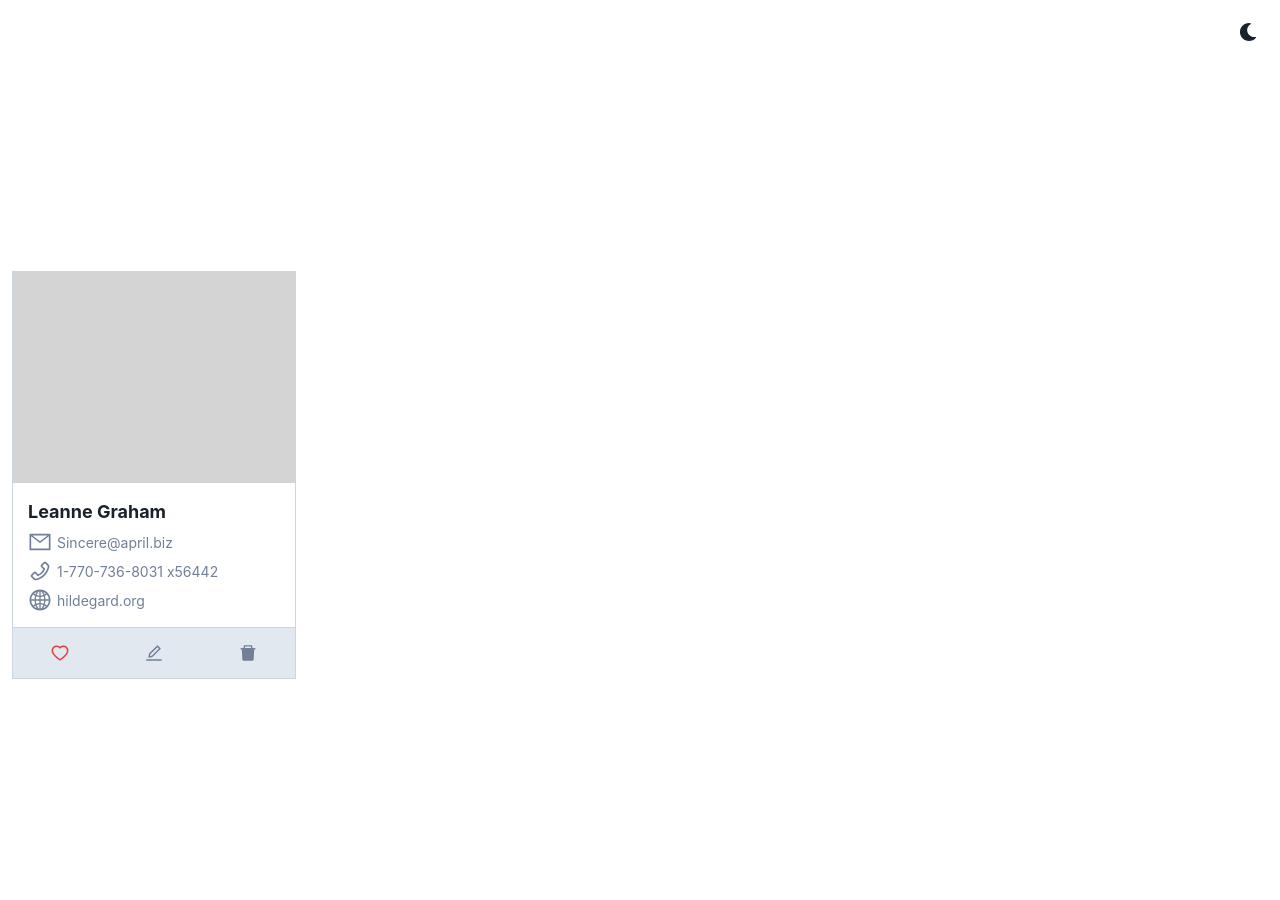
Scenario: <App /> › edit modal validation works
Click the button with test id "button-user-edit" at (154, 653), box [134,633,174,673]
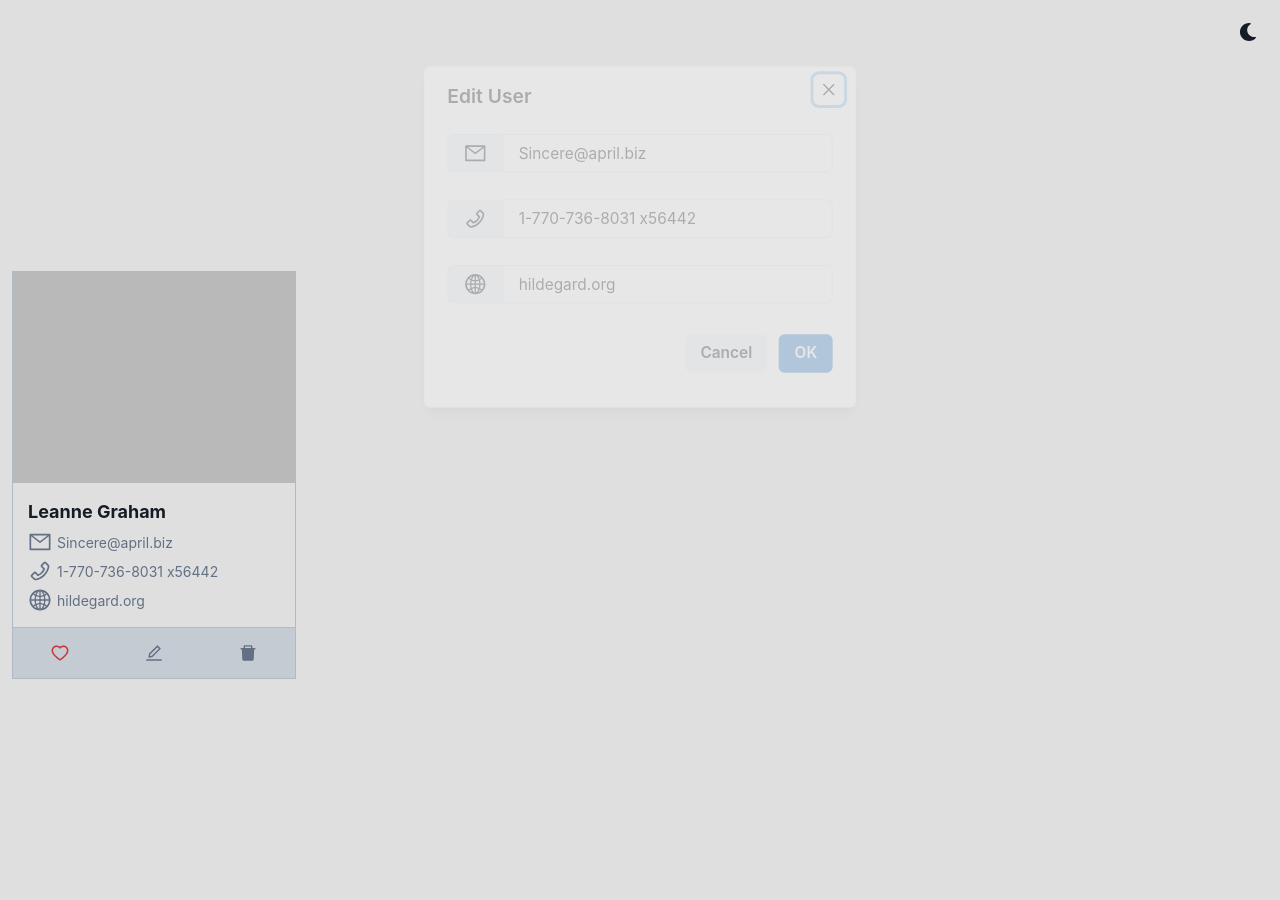
Replace the text in the field with test id "email-input" with "invalidate-email" at (668, 153), box [502,134,833,172]
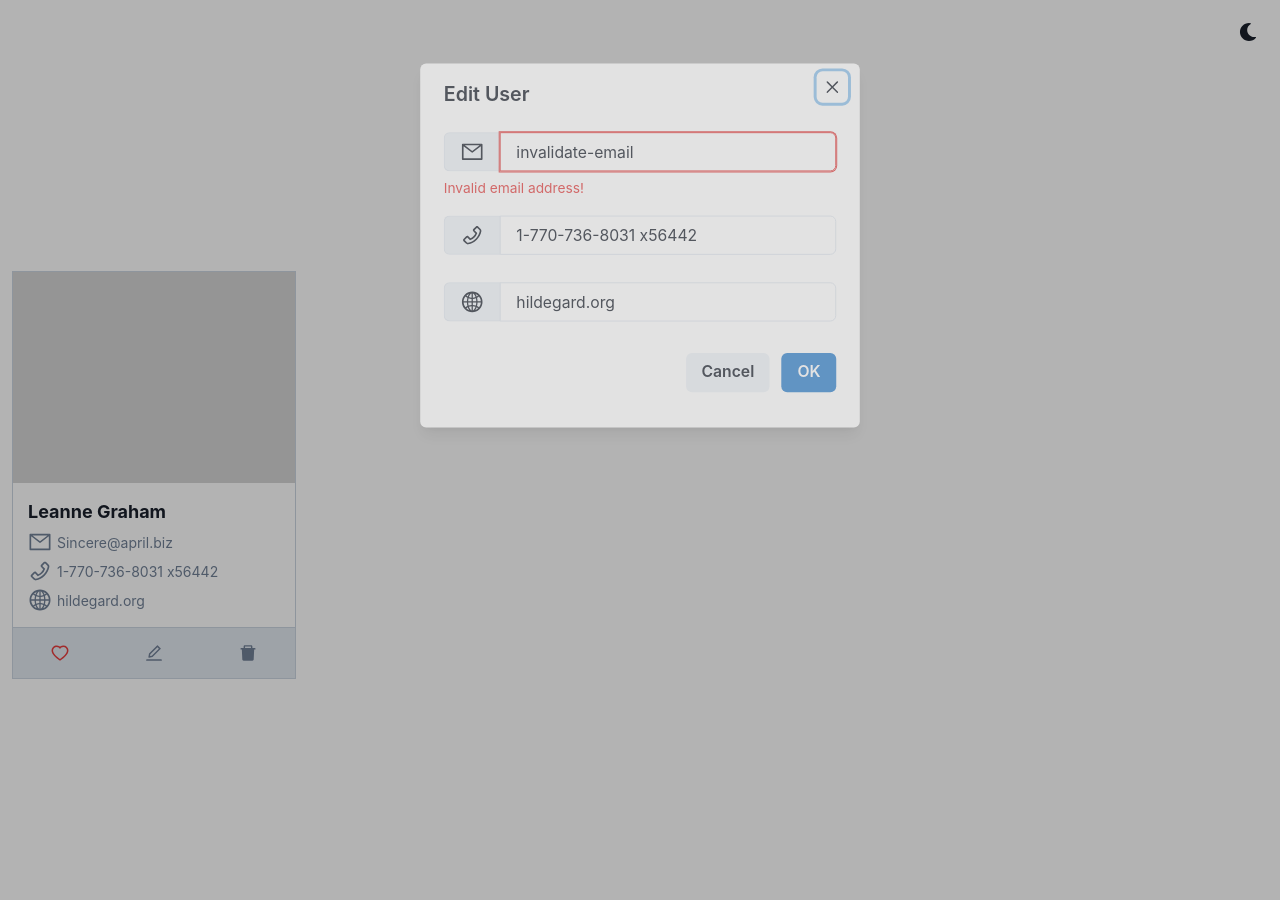
Clear the field with test id "phone-input" at (668, 235), box [500,216,836,255]
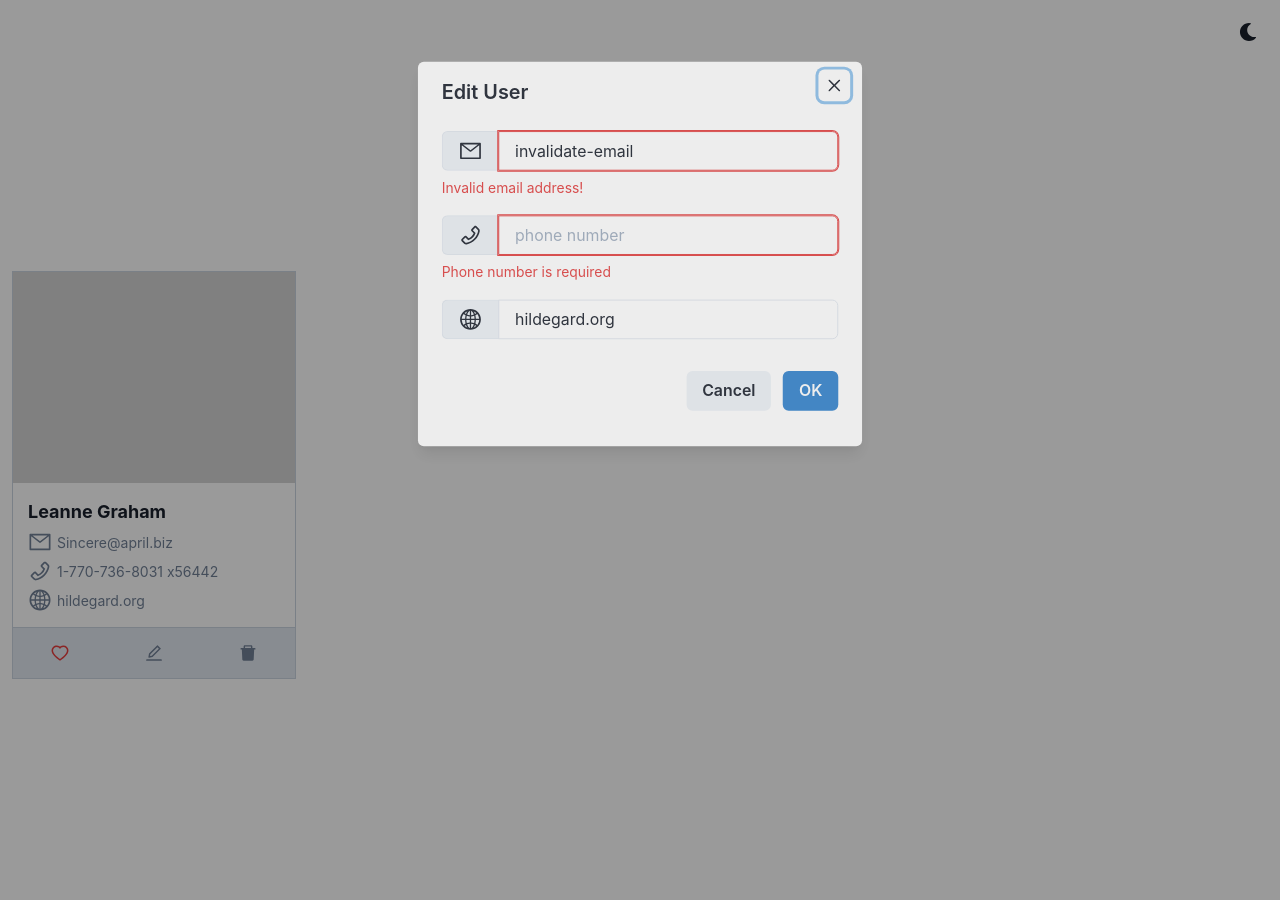
Clear the field with test id "website-input" at (668, 319), box [498,300,838,339]
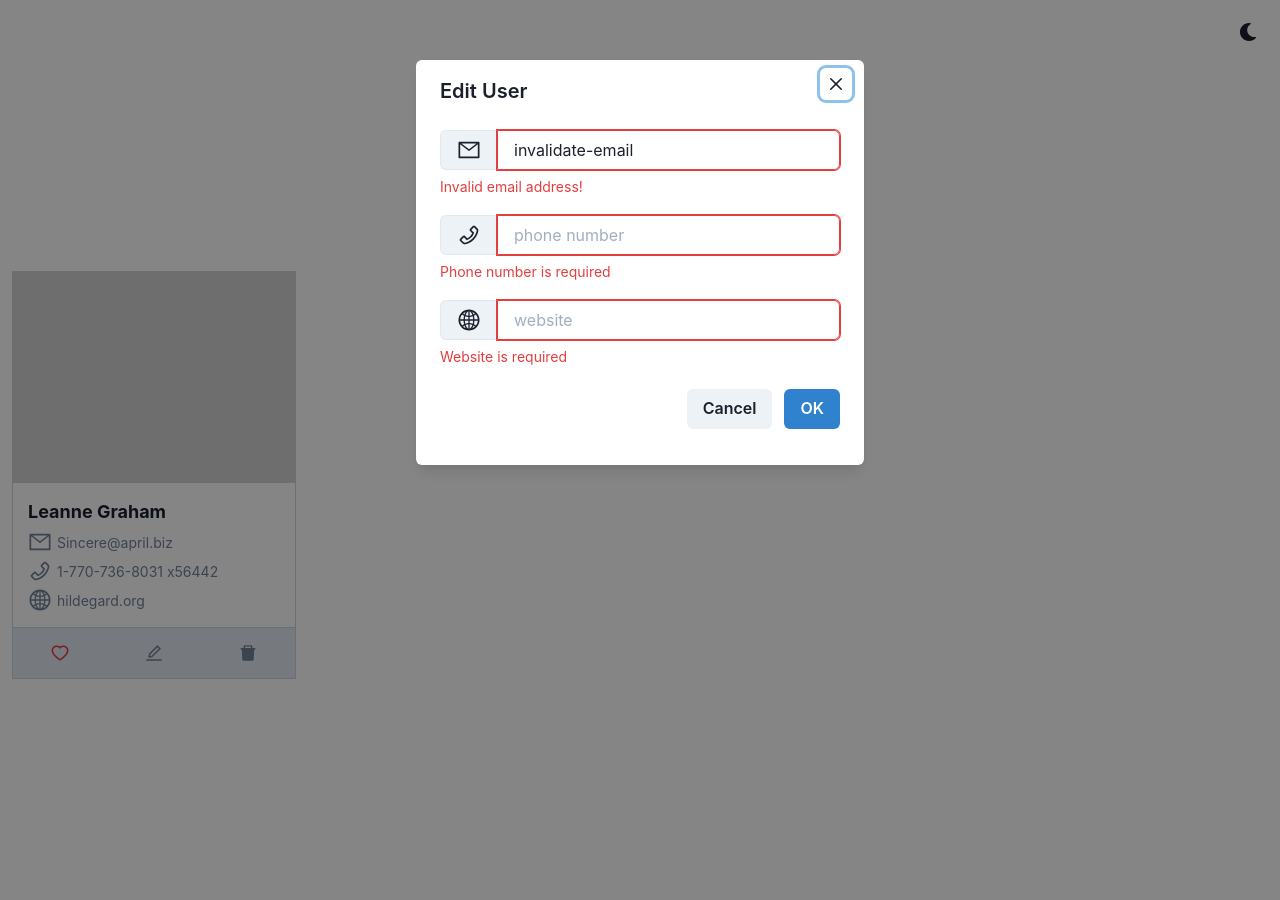
Expected: the text "Invalid email address!" is shown, [440,178,583,195]
Expected: the text "Phone number is required" is shown, [440,263,611,280]
Expected: the text "Website is required" is shown, [440,348,567,365]
